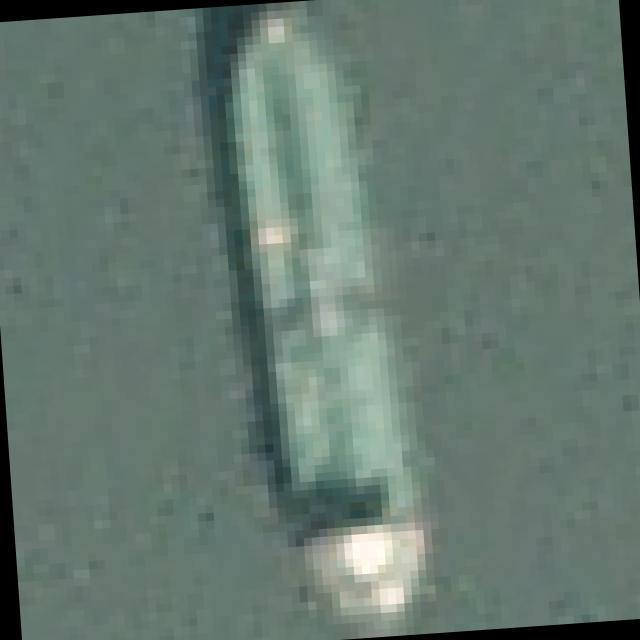ship: (126, 0, 490, 640)
